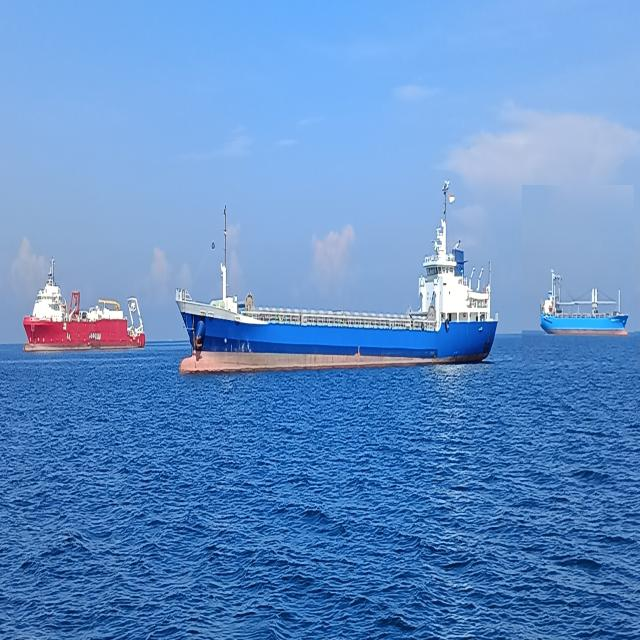PassengerShip: (180, 99, 504, 448)
